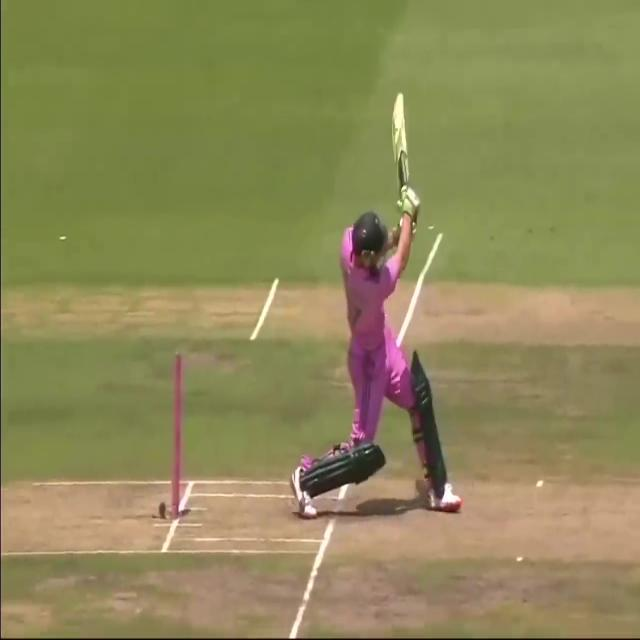Ball: (293, 159, 468, 524)
